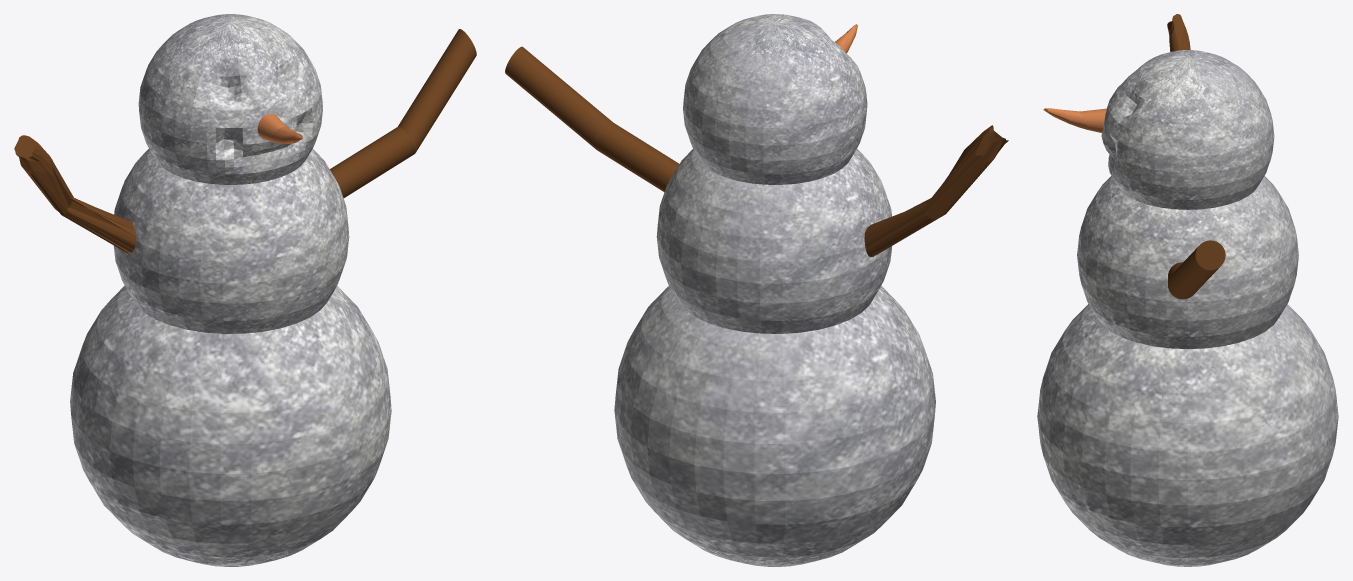
Rendered from snowman-model.glb.
The picture shows the model from 3 angles, left to right: view 1: azimuth 30°, elevation 25°; view 2: azimuth 150°, elevation 25°; view 3: azimuth 270°, elevation 25°; orthographic projection. The views are drawn at different scales.
Parts seen in each view (by area): view 1: Cuerpo-abajo, Cuerpo-pecho, Cabeza, Brazo izquierdo, Brazo derecho, Nariz; view 2: Cuerpo-abajo, Cuerpo-pecho, Cabeza, Brazo izquierdo, Brazo derecho; view 3: Cuerpo-abajo, Cuerpo-pecho, Cabeza, Brazo izquierdo, Nariz, Brazo derecho.
Part boxes in pixels (x1,y1,x2,y2): Cuerpo-abajo: (70, 285, 391, 566); Cuerpo-pecho: (113, 149, 349, 333); Cabeza: (138, 14, 322, 184); Brazo izquierdo: (330, 29, 476, 197); Brazo derecho: (14, 135, 136, 253); Nariz: (257, 114, 302, 144); Cuerpo-abajo: (614, 285, 935, 566); Cuerpo-pecho: (656, 149, 892, 333); Cabeza: (683, 14, 867, 184); Brazo izquierdo: (505, 46, 679, 192); Brazo derecho: (864, 125, 1008, 257); Cuerpo-abajo: (1037, 304, 1338, 566); Cuerpo-pecho: (1077, 176, 1298, 348); Cabeza: (1101, 50, 1274, 209); Brazo izquierdo: (1168, 240, 1225, 299); Nariz: (1043, 108, 1106, 132); Brazo derecho: (1167, 14, 1190, 51).
Size of the model in its own units: 1.88 by 1.99 by 1.1.
Materials: 3 (1 with a texture image).
